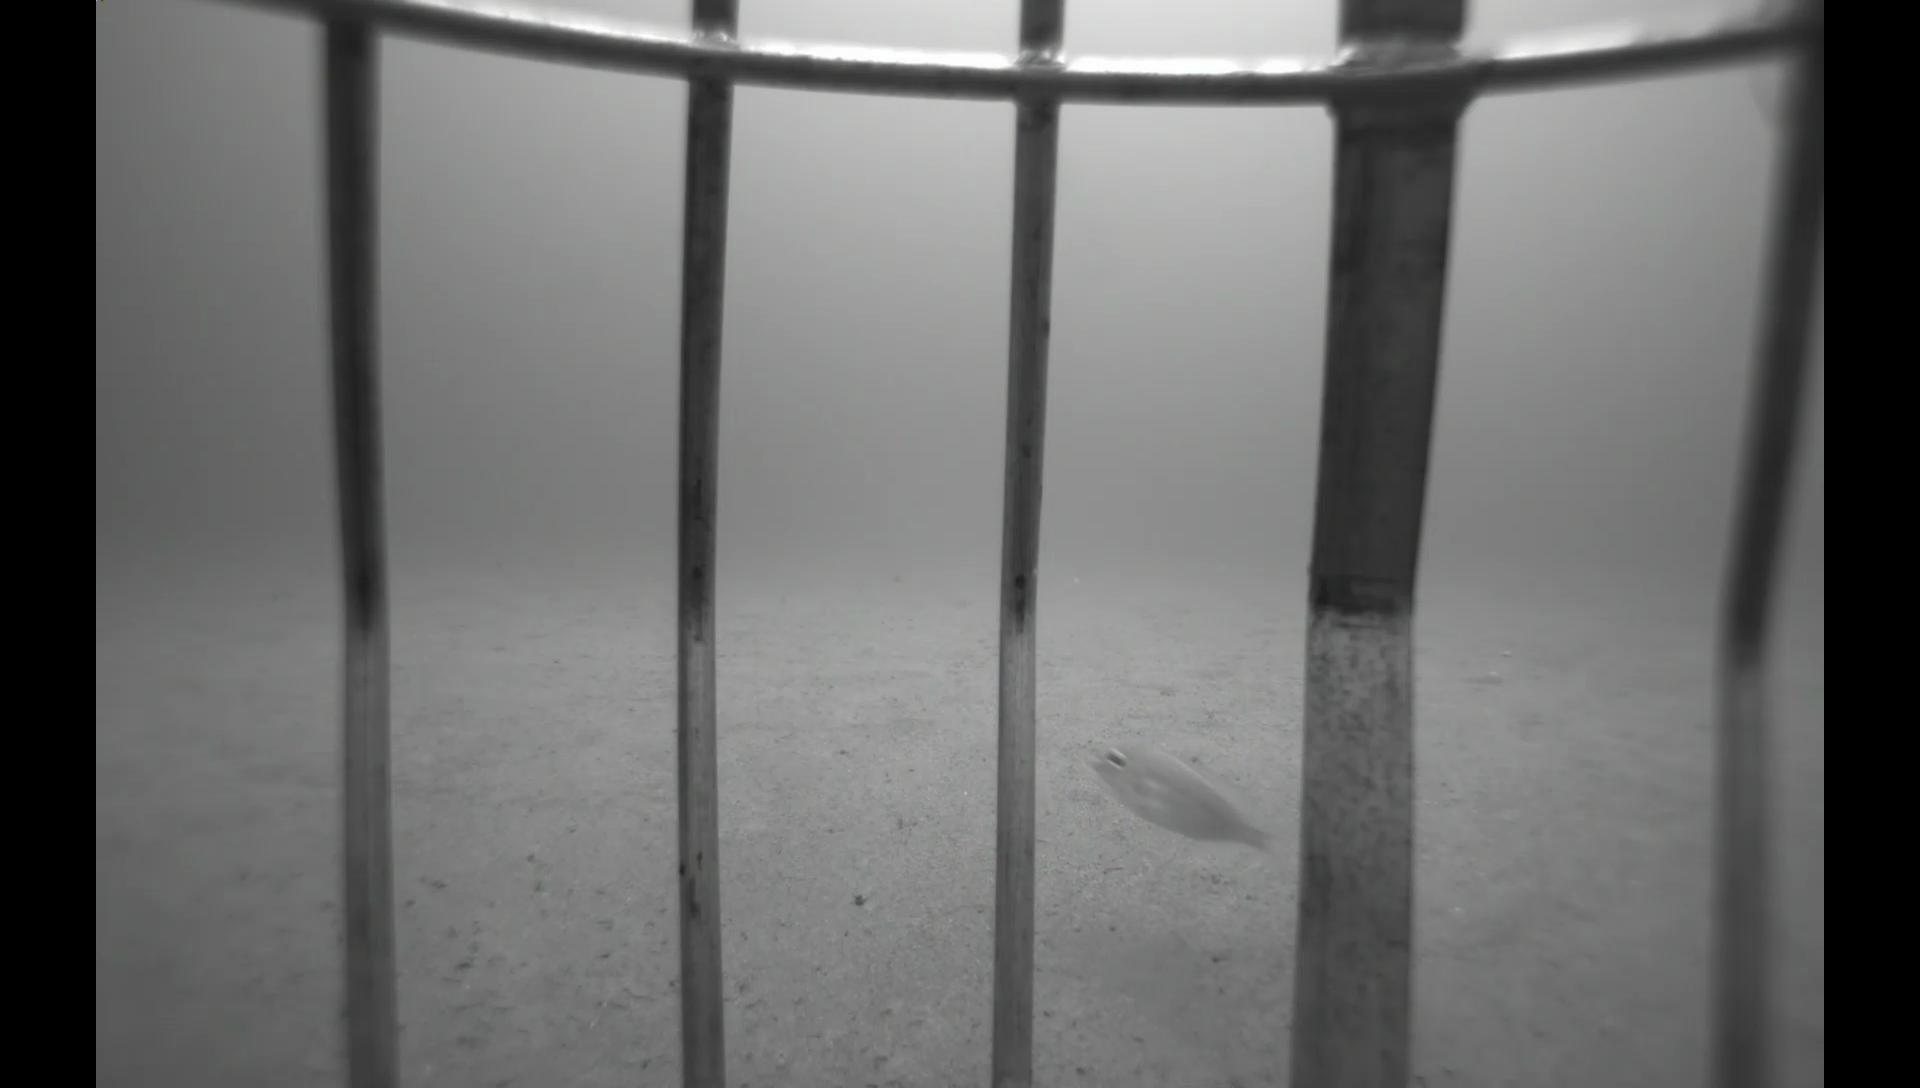PRISTIPOMOIDES-170151800: (1072, 727, 1304, 894)
